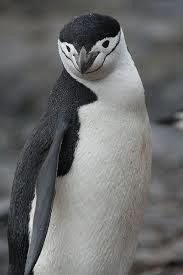chinstrap: (0, 6, 172, 275)
